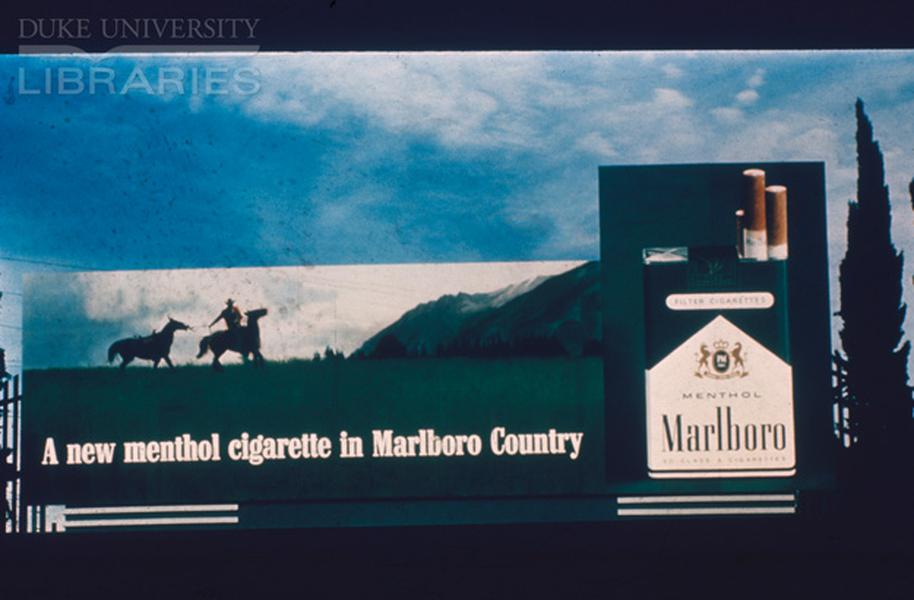marlboro_mentol: (649, 260, 792, 479)
